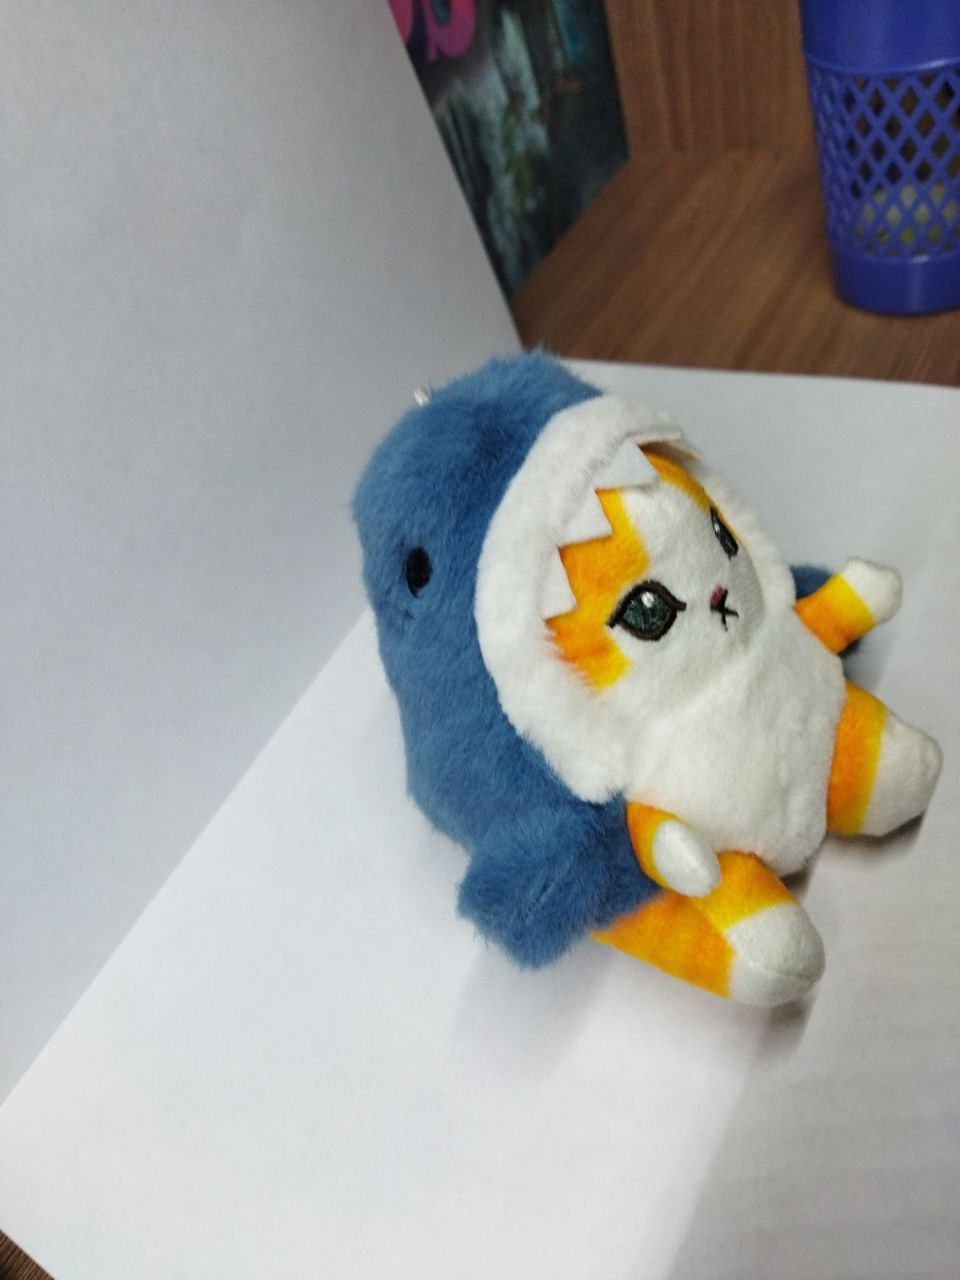Snark Cat: (324, 353, 943, 1009)
